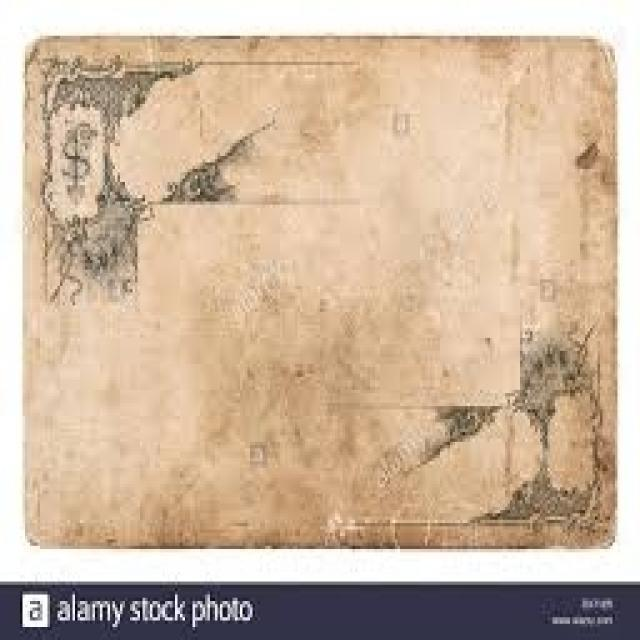cardboard paper: (24, 36, 614, 546)
